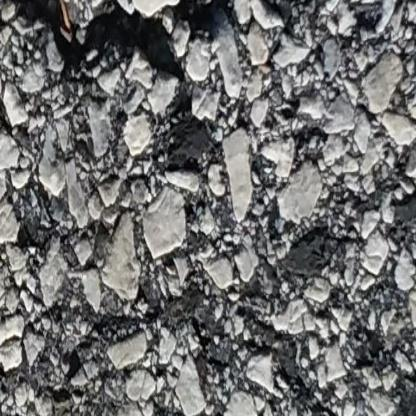Cracks: (0, 0, 183, 80), (156, 0, 347, 37), (399, 0, 416, 35)
